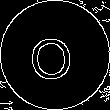O_N: (32, 28, 78, 82)
